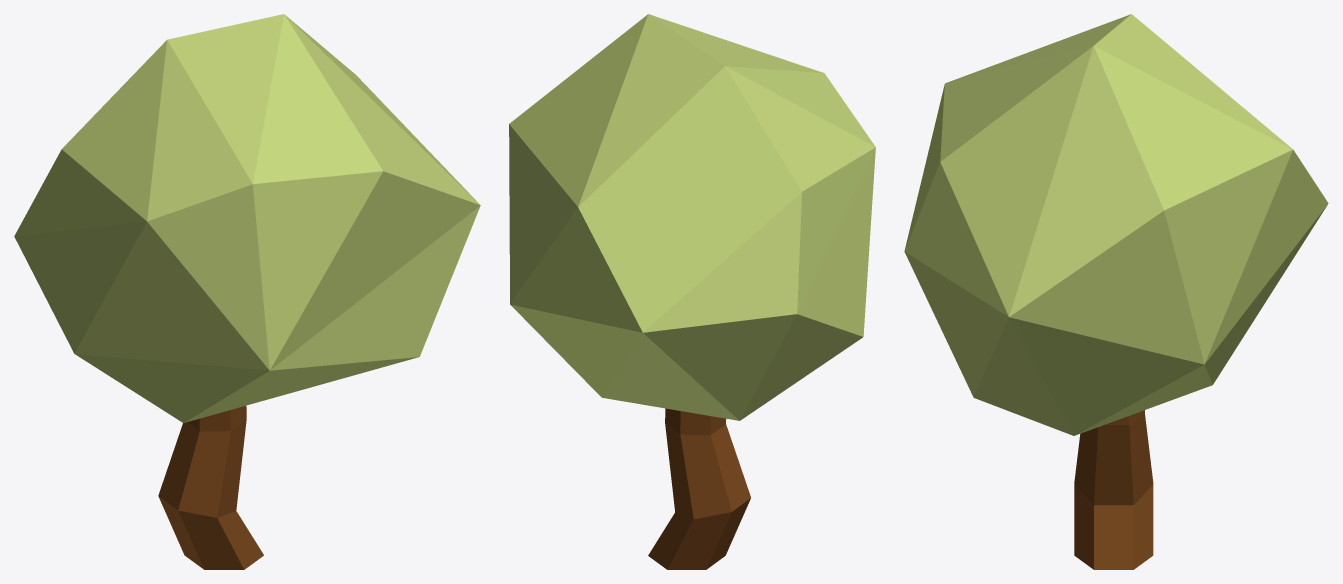
The model's file is Bush1.glb.
3 renders of one model, left to right at view 1: azimuth 30°, elevation 25°; view 2: azimuth 150°, elevation 25°; view 3: azimuth 270°, elevation 25°, orthographic. The views are drawn at different scales.
Visible parts, largest first — view 1: Bush1; view 2: Bush1; view 3: Bush1.
Part boxes in pixels (x1,y1,x2,y2): Bush1: (14, 14, 480, 569); Bush1: (509, 14, 875, 569); Bush1: (904, 14, 1328, 569).
Size of the model in its own units: 1.07 by 1.49 by 1.07.
